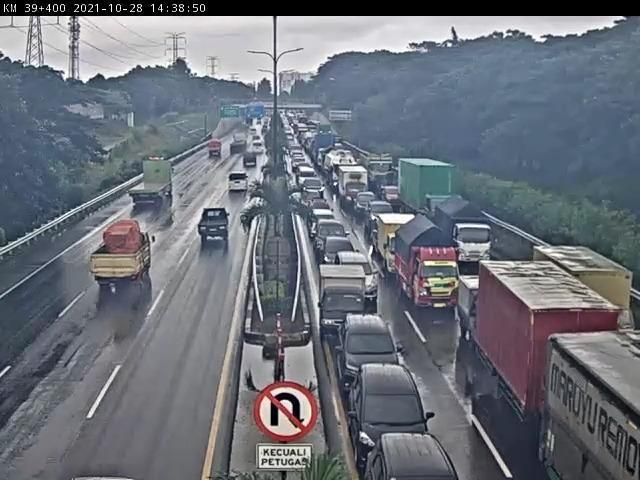bus: (249, 140, 267, 156)
car: (350, 366, 437, 465), (336, 315, 400, 399), (365, 434, 462, 480), (337, 253, 382, 303), (321, 237, 362, 278), (313, 220, 351, 259), (368, 200, 396, 232), (311, 208, 336, 238), (357, 193, 378, 218), (228, 173, 251, 194), (242, 155, 261, 172)
truck: (480, 260, 627, 447), (528, 243, 630, 353), (395, 217, 464, 314), (460, 275, 523, 352), (90, 220, 156, 292), (435, 196, 496, 266), (398, 159, 458, 228), (318, 262, 370, 338), (378, 213, 421, 278), (129, 159, 178, 212), (340, 166, 370, 208), (198, 209, 232, 243), (231, 131, 252, 156), (204, 141, 223, 163)
